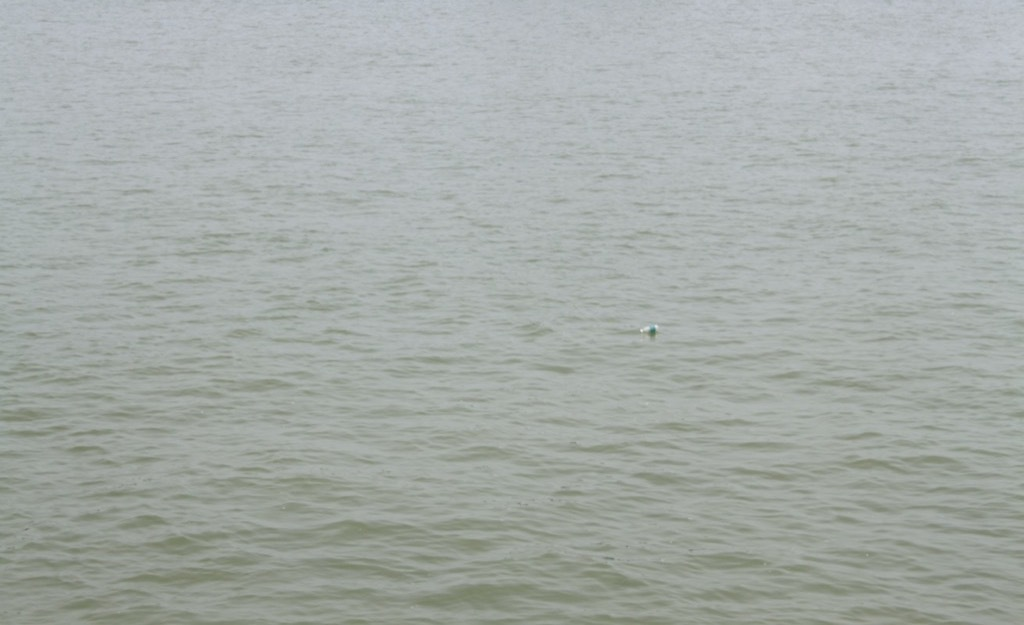plastic: (636, 322, 667, 347)
